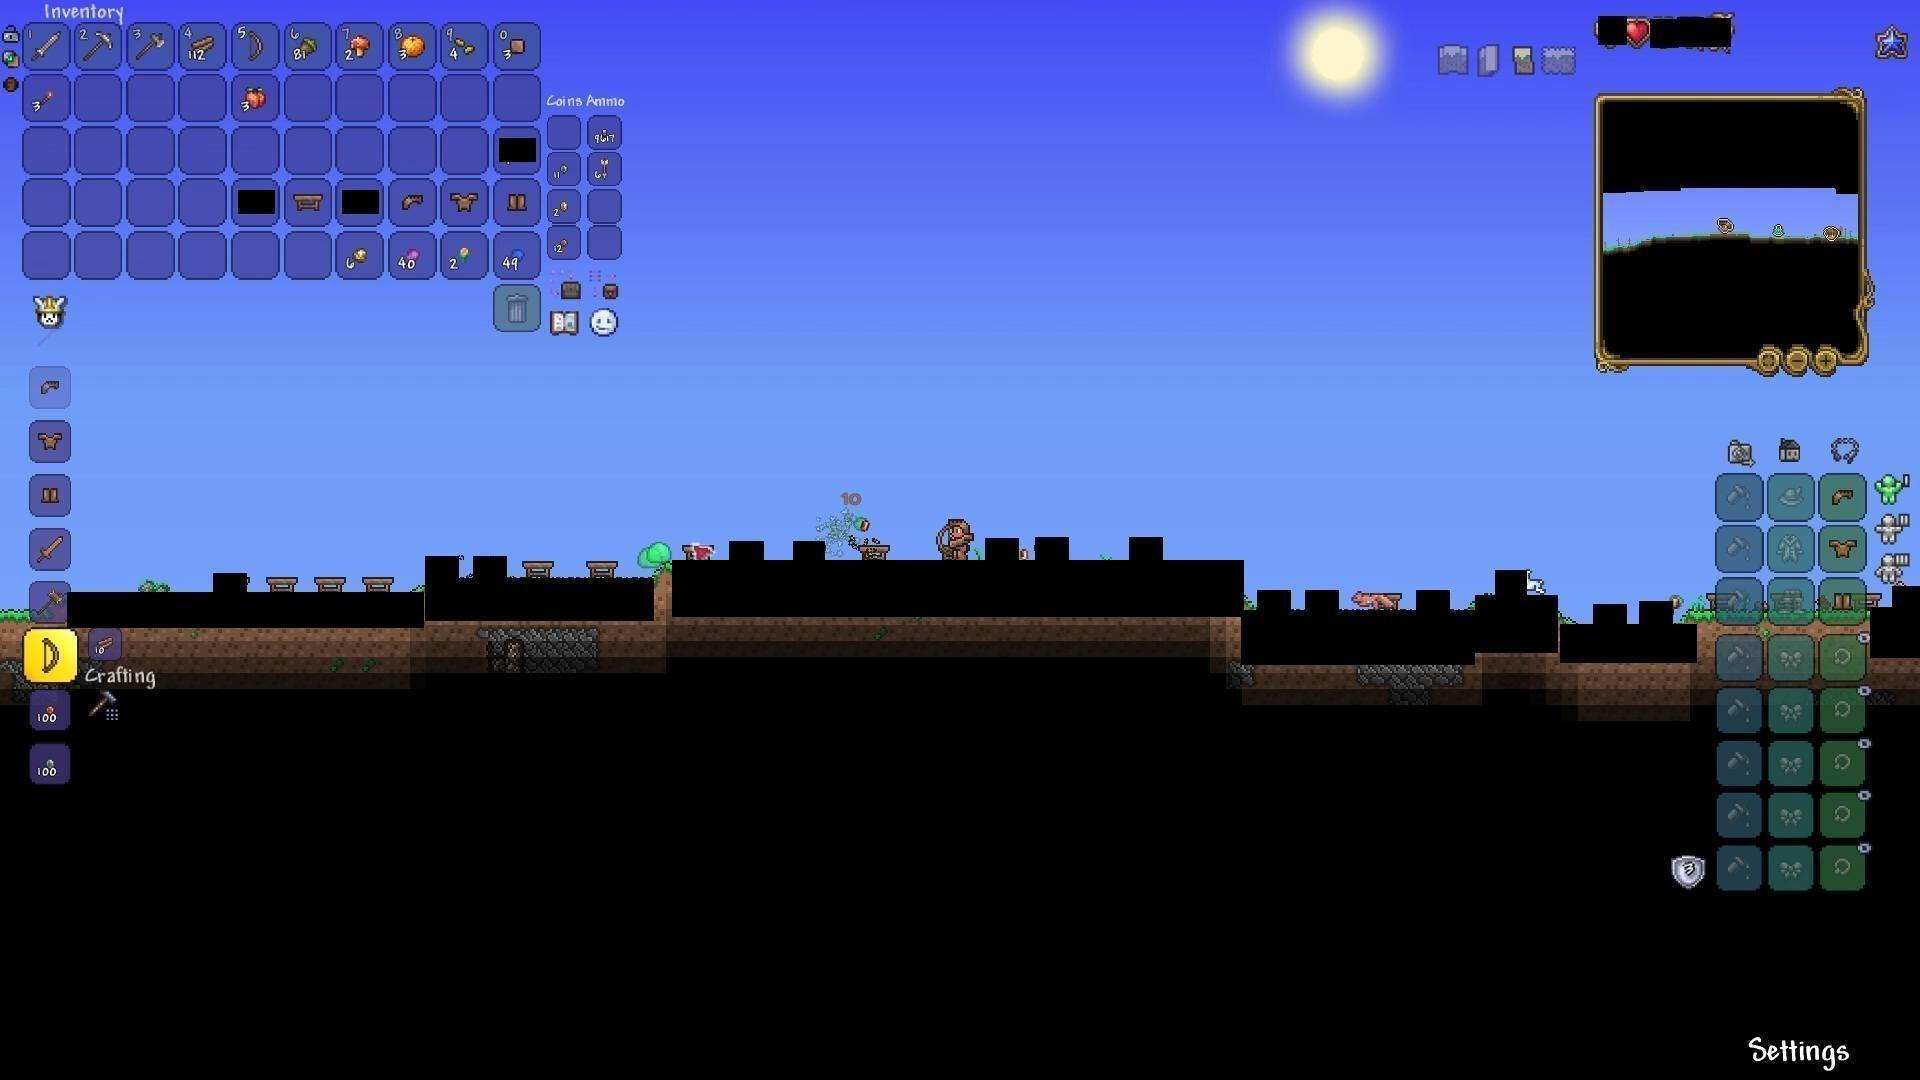breastplate: (36, 429, 65, 450), (1830, 537, 1859, 558), (448, 190, 477, 210)
heart: (1625, 18, 1654, 47)
helmet: (33, 375, 66, 402), (400, 189, 429, 214), (1829, 484, 1857, 509)
legs: (505, 186, 531, 214), (38, 483, 63, 510), (1832, 589, 1857, 616)
slime: (638, 541, 670, 568)
wood: (88, 632, 119, 658), (189, 34, 218, 59)
workbench: (291, 190, 328, 214), (585, 558, 618, 582), (521, 556, 554, 580), (360, 568, 393, 592), (313, 570, 345, 593), (264, 570, 297, 593), (857, 545, 889, 566)
